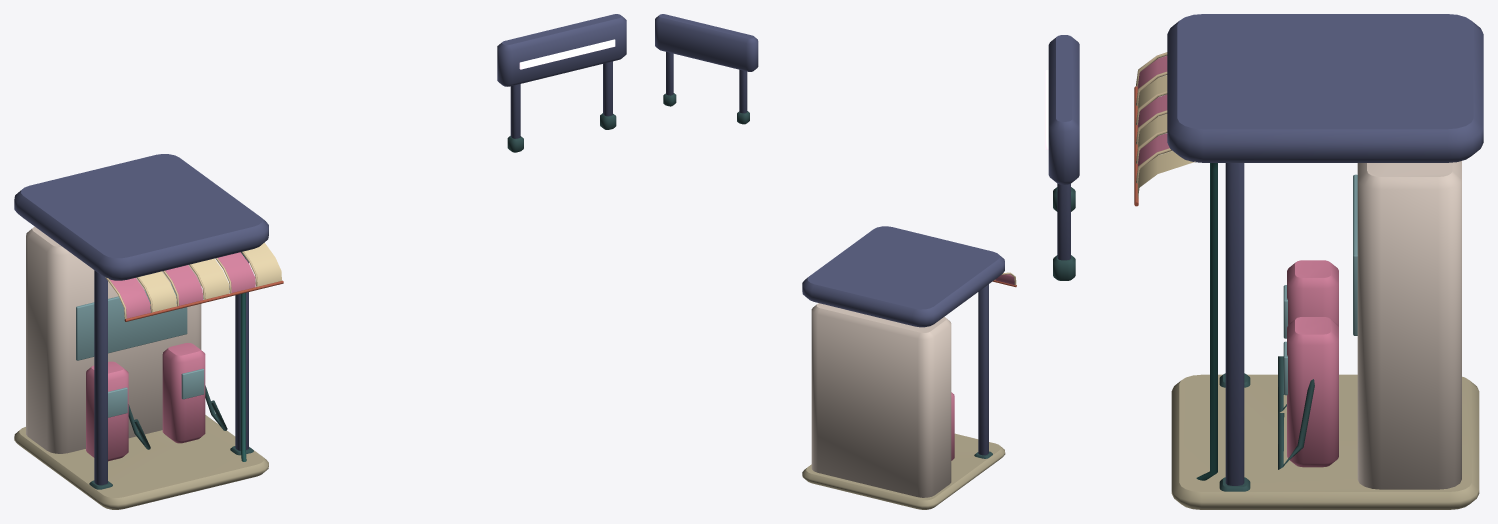
File: japan_fuel_4.glb
3 renders of one model, left to right at view 1: azimuth 30°, elevation 25°; view 2: azimuth 150°, elevation 25°; view 3: azimuth 270°, elevation 25°, orthographic. The views are drawn at different scales.
Visible parts, largest first — view 1: JapanFuel4; view 2: JapanFuel4; view 3: JapanFuel4.
Boxes of the visible parts, <box> form: JapanFuel4: <box>14,14,626,509</box>; JapanFuel4: <box>655,14,1016,509</box>; JapanFuel4: <box>1045,14,1483,509</box>.
Bounding box in the file's own units: 6.77 × 5.51 × 3.53.
